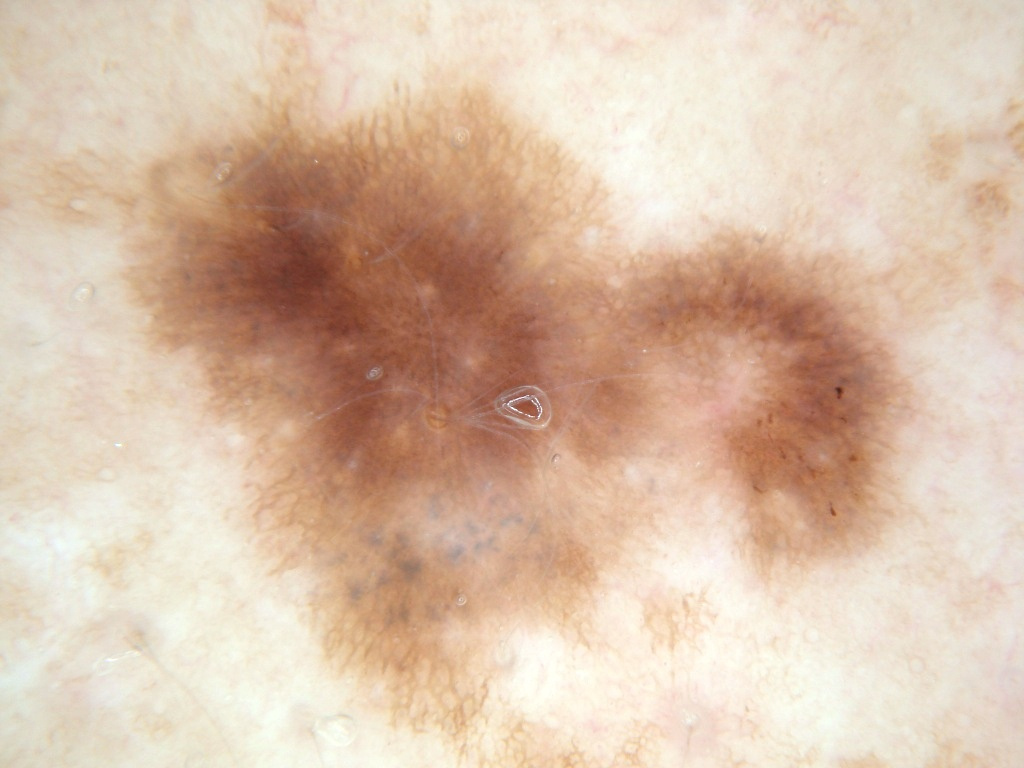Detected Lesion: (54, 51, 926, 768)
